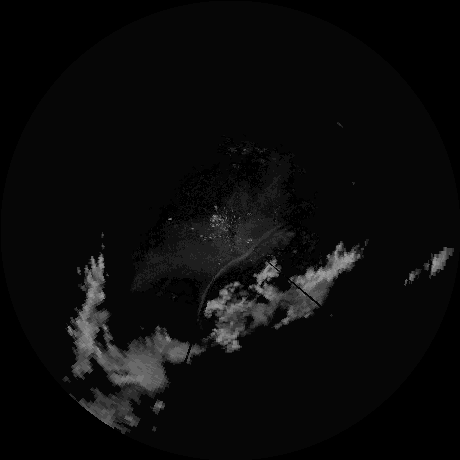frontgust: (197, 226, 280, 305)
